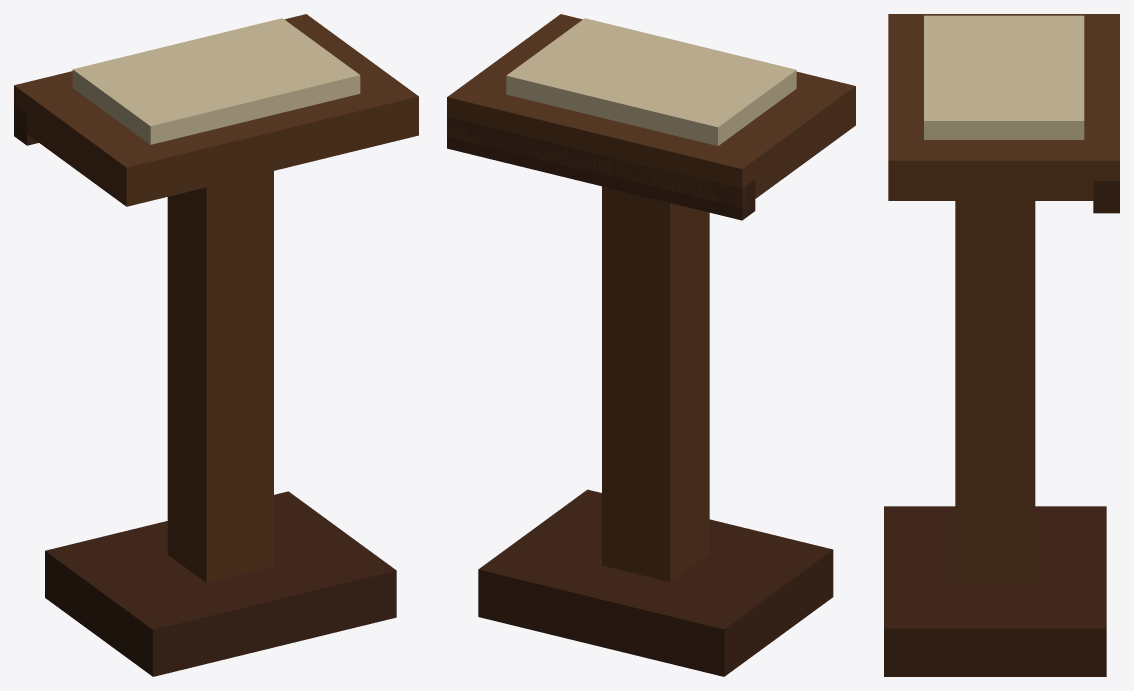
The model's file is atril.obj.
The picture shows the model from 3 angles, left to right: view 1: azimuth 30°, elevation 25°; view 2: azimuth 150°, elevation 25°; view 3: azimuth 270°, elevation 25°; orthographic projection. The views are drawn at different scales.
Visible parts, largest first — view 1: pie, base, tablero, libro; view 2: pie, base, tablero, libro, tope; view 3: base, pie, tablero, libro, tope.
Boxes of the visible parts, bbox=[...] form: pie: bbox=[167, 171, 273, 582]; base: bbox=[45, 491, 396, 676]; tablero: bbox=[14, 14, 418, 206]; libro: bbox=[72, 18, 360, 144]; pie: bbox=[602, 186, 709, 581]; base: bbox=[478, 489, 833, 676]; tablero: bbox=[447, 14, 855, 208]; libro: bbox=[506, 18, 796, 145]; tope: bbox=[447, 117, 755, 220]; base: bbox=[884, 506, 1106, 676]; pie: bbox=[955, 201, 1035, 584]; tablero: bbox=[888, 14, 1119, 200]; libro: bbox=[924, 15, 1084, 139]; tope: bbox=[1093, 181, 1119, 213].
Size of the model in its own units: 0.78 by 1.36 by 0.53.
